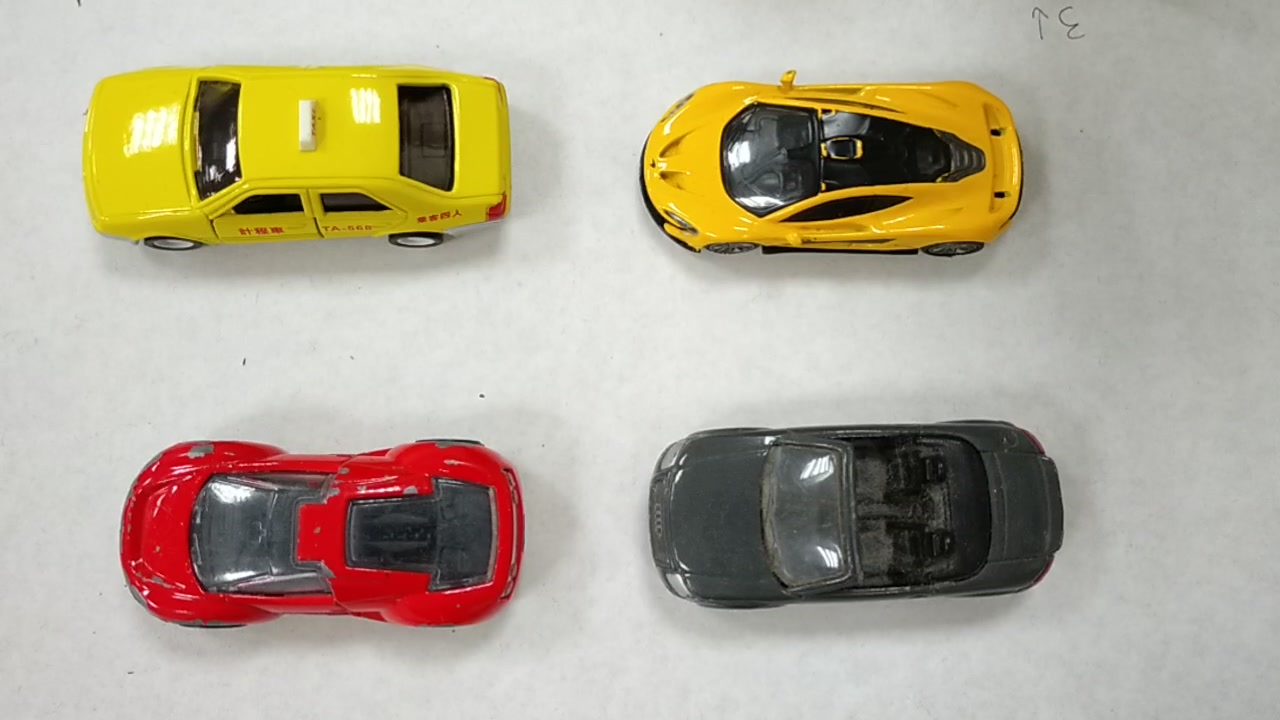car: (112, 433, 526, 619), (83, 70, 516, 247), (649, 419, 1066, 601), (638, 83, 1025, 254)
